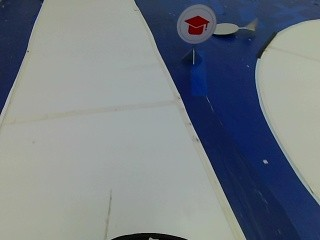school: (175, 1, 216, 44)
